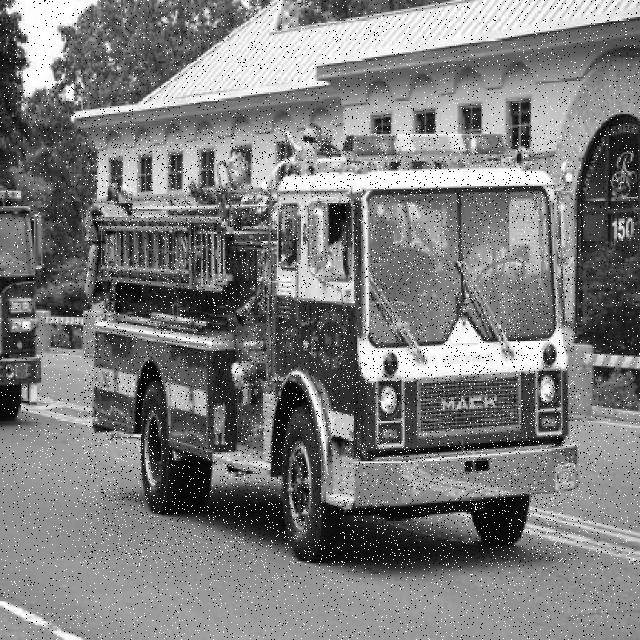Fire Truck: (84, 126, 582, 565)
